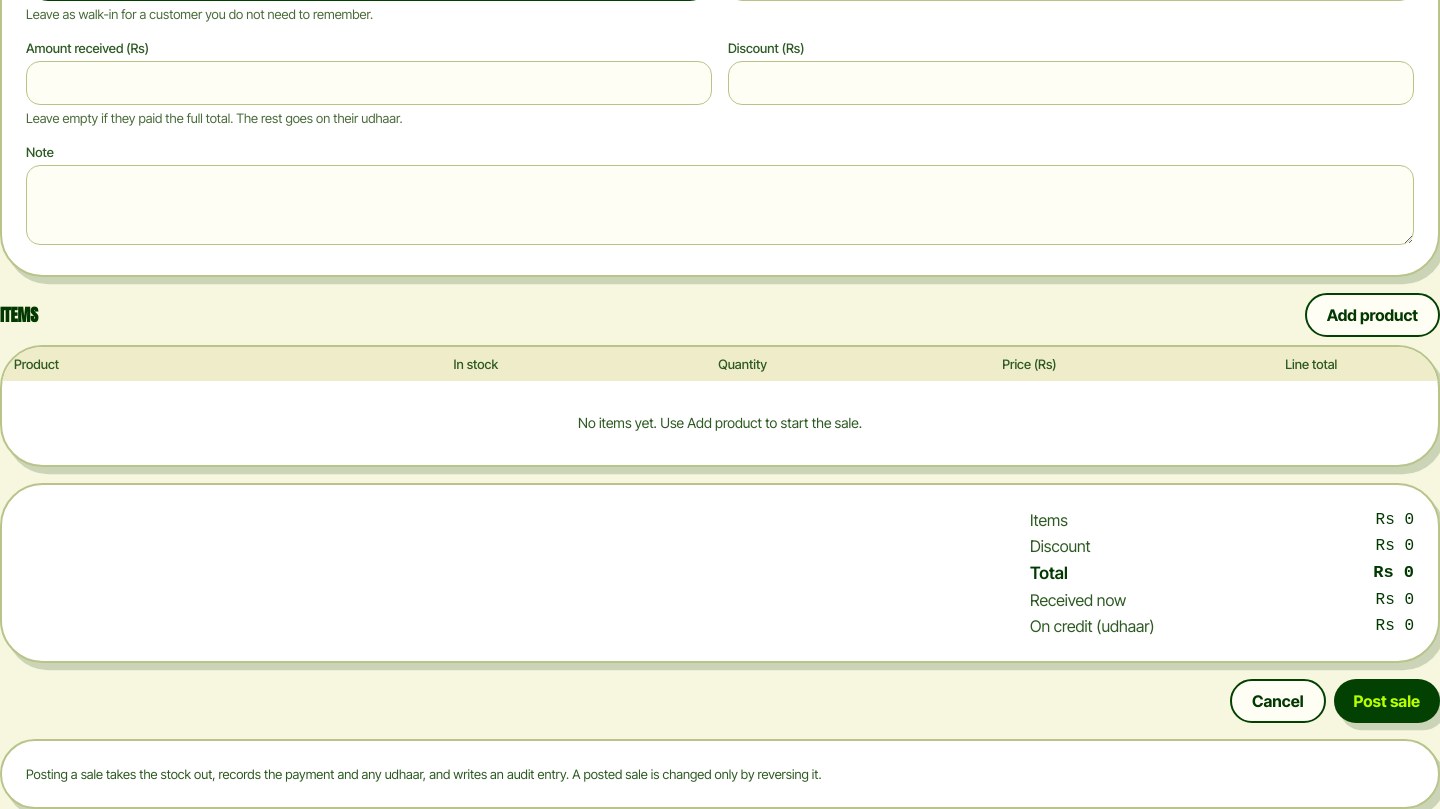
Scenario: New sale (PRD F-007) › starts empty, explains what to do, and will not post without an item
This screenshot has width=1440, height=809.
(page scrolled)
Check: the text "No items yet. Use Add product to start the sale." is shown, box [2,381,1438,465]
Click the button "Post sale": (1387, 701) [1334,679,1439,723]
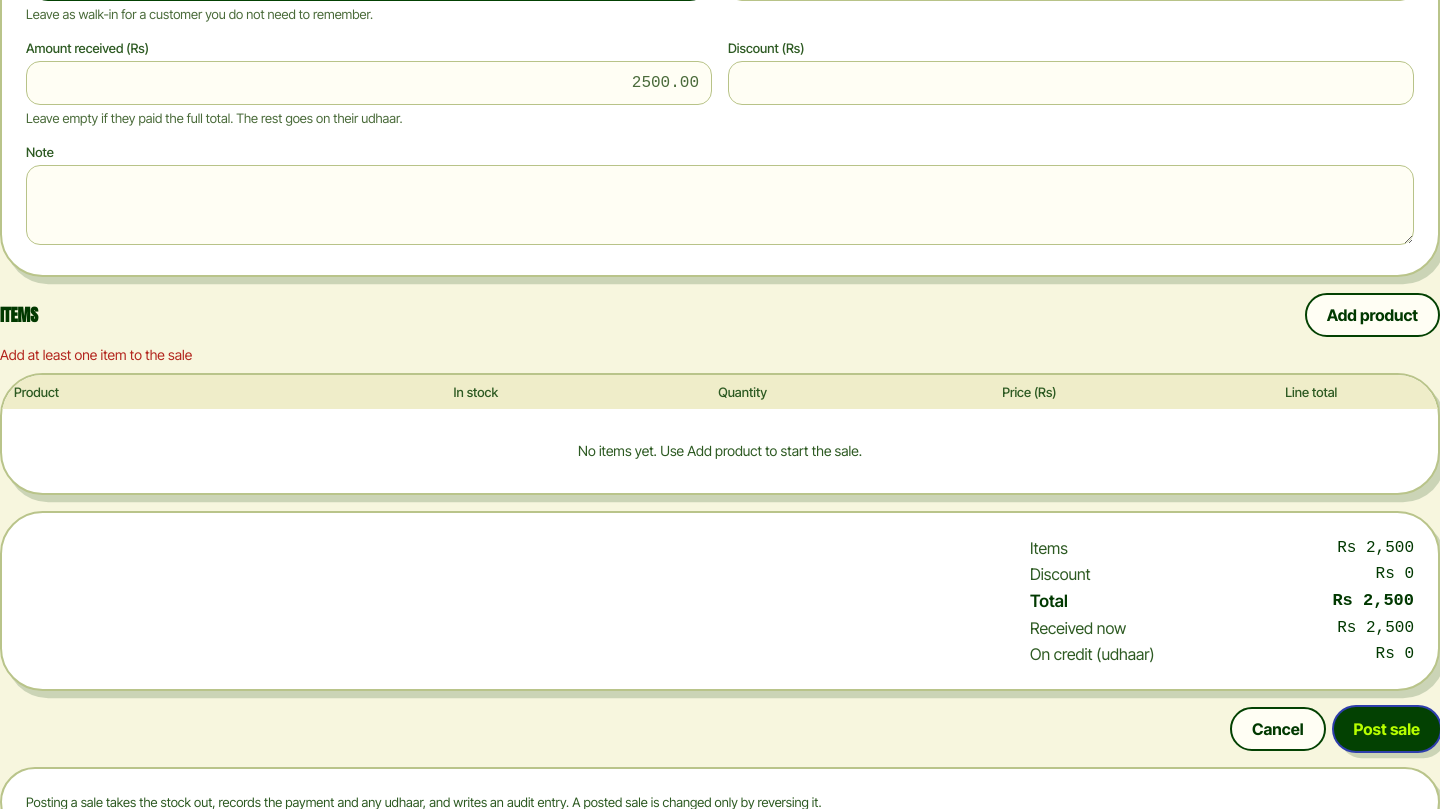
Check: the text "Add at least one item to the sale" is shown, box [0,346,192,363]
